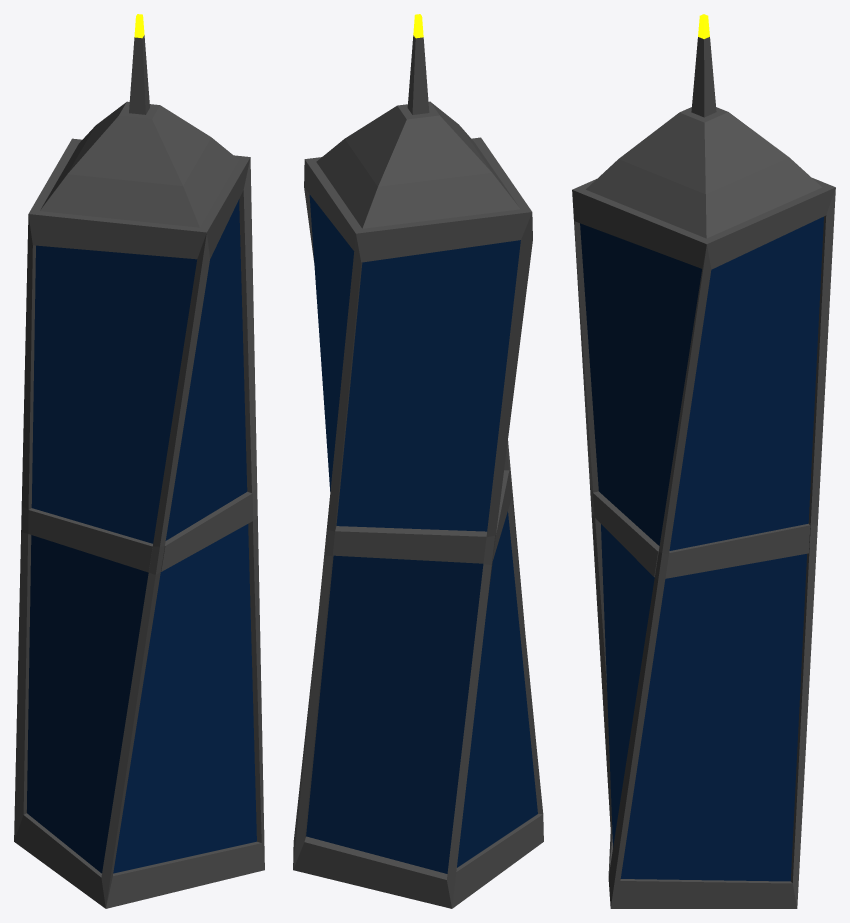
The model's file is BP_Skyscraper_5.fbx.
3 renders of one model, left to right at view 1: azimuth 30°, elevation 25°; view 2: azimuth 150°, elevation 25°; view 3: azimuth 270°, elevation 25°, orthographic.
Visible parts, largest first — view 1: Cube; view 2: Cube; view 3: Cube.
Boxes of the visible parts, x1,y1,x2,y2 form: Cube: [14, 14, 264, 908]; Cube: [293, 14, 543, 908]; Cube: [572, 14, 835, 908].
Size of the model in its own units: 283 by 1010 by 283.
